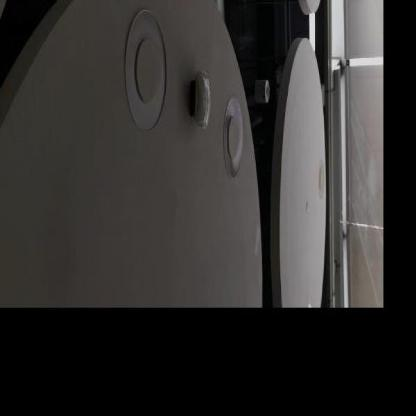light_off: (111, 0, 174, 146), (219, 74, 246, 186)
